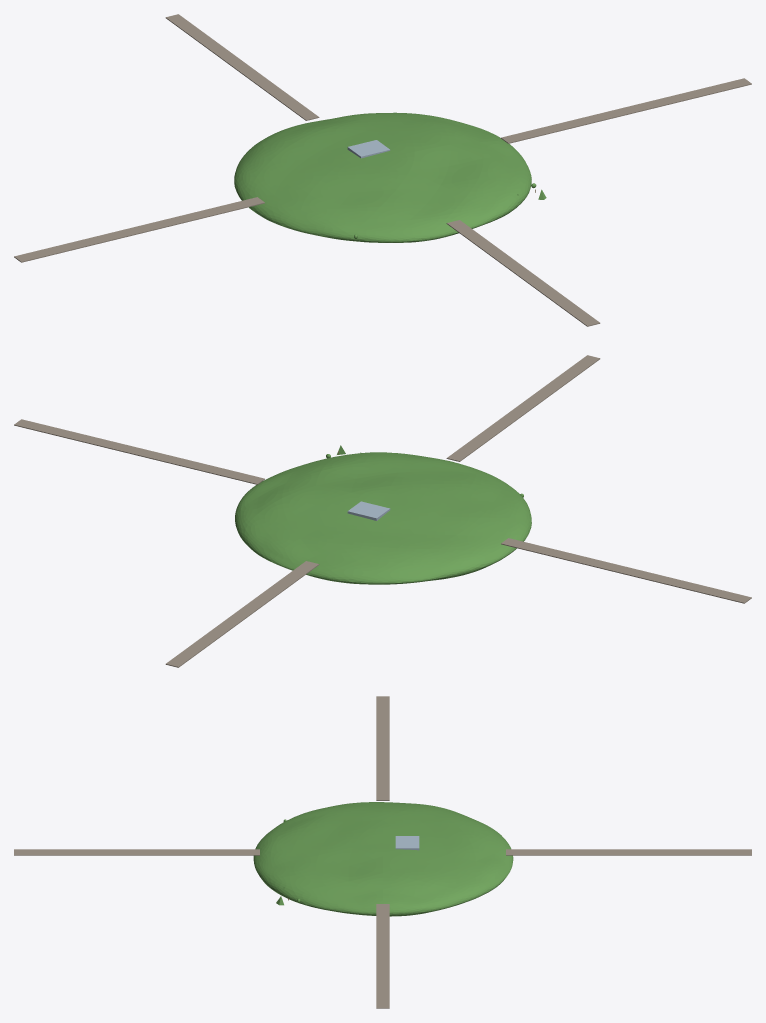
Rendered from Island_StarterTown.fbx.
3 renders of one model, top to bottom at view 1: azimuth 30°, elevation 25°; view 2: azimuth 150°, elevation 25°; view 3: azimuth 270°, elevation 25°, orthographic. The views are drawn at different scales.
Parts seen in each view (by area): view 1: TERRAIN_StarterTown, BRIDGE_StarterTown_to_FireForest, BRIDGE_StarterTown_to_NaturePlains, BRIDGE_StarterTown_to_EarthDesert, BRIDGE_StarterTown_to_WaterCaves; view 2: TERRAIN_StarterTown, BRIDGE_StarterTown_to_FireForest, BRIDGE_StarterTown_to_NaturePlains, BRIDGE_StarterTown_to_EarthDesert, BRIDGE_StarterTown_to_WaterCaves; view 3: TERRAIN_StarterTown, BRIDGE_StarterTown_to_EarthDesert, BRIDGE_StarterTown_to_WaterCaves, BRIDGE_StarterTown_to_FireForest, BRIDGE_StarterTown_to_NaturePlains.
Part boxes in pixels (x1=…): TERRAIN_StarterTown: x1=234, y1=112, x2=531, y2=242; BRIDGE_StarterTown_to_FireForest: x1=501, y1=78, x2=751, y2=143; BRIDGE_StarterTown_to_NaturePlains: x1=14, y1=197, x2=264, y2=262; BRIDGE_StarterTown_to_EarthDesert: x1=446, y1=220, x2=600, y2=326; BRIDGE_StarterTown_to_WaterCaves: x1=165, y1=14, x2=319, y2=120; TERRAIN_StarterTown: x1=235, y1=452, x2=531, y2=584; BRIDGE_StarterTown_to_FireForest: x1=14, y1=419, x2=264, y2=484; BRIDGE_StarterTown_to_NaturePlains: x1=501, y1=538, x2=751, y2=603; BRIDGE_StarterTown_to_EarthDesert: x1=446, y1=355, x2=600, y2=461; BRIDGE_StarterTown_to_WaterCaves: x1=165, y1=561, x2=319, y2=667; TERRAIN_StarterTown: x1=253, y1=802, x2=513, y2=916; BRIDGE_StarterTown_to_EarthDesert: x1=14, y1=849, x2=259, y2=855; BRIDGE_StarterTown_to_WaterCaves: x1=506, y1=849, x2=751, y2=855; BRIDGE_StarterTown_to_FireForest: x1=376, y1=904, x2=389, y2=1008; BRIDGE_StarterTown_to_NaturePlains: x1=376, y1=696, x2=389, y2=800.
Bounding box in the file's own units: 450 × 16.71 × 450.
